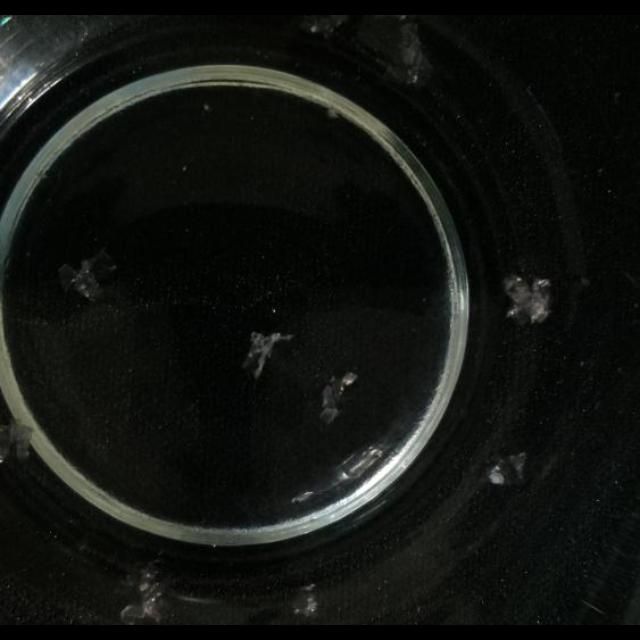Fibre: (60, 248, 119, 302), (120, 562, 170, 624), (504, 274, 554, 326), (240, 332, 292, 381), (318, 370, 358, 424), (0, 418, 34, 466), (488, 452, 528, 486), (288, 584, 320, 618), (325, 105, 341, 119)
